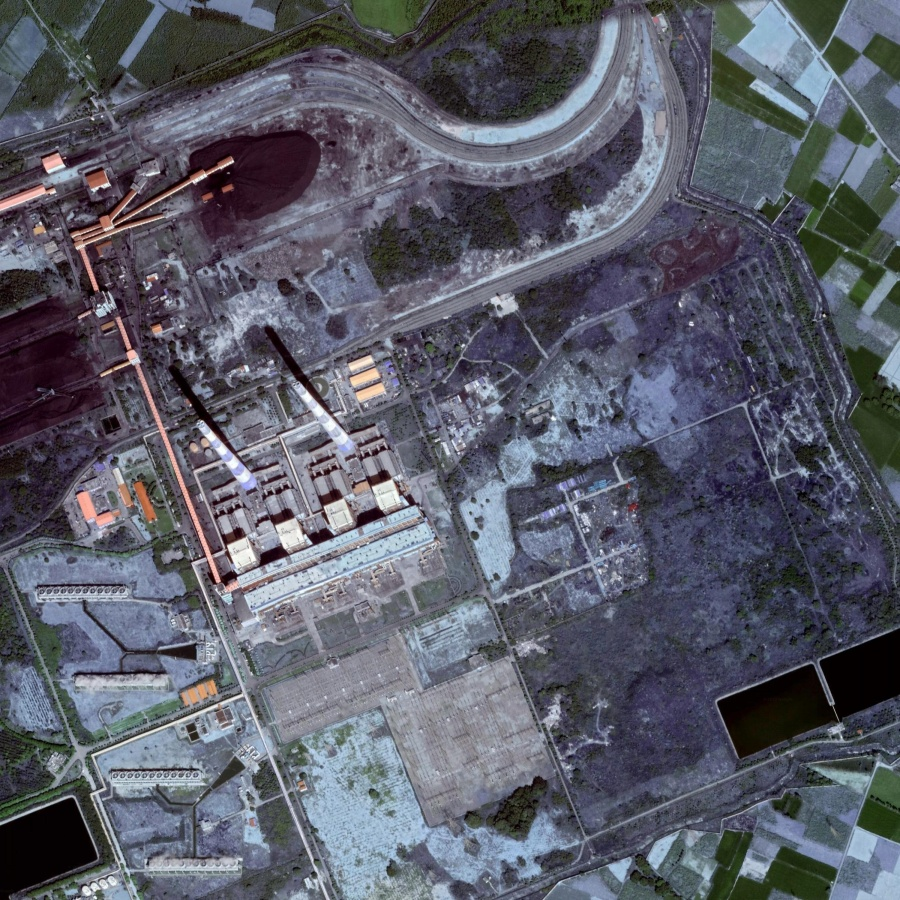PowerPlant: (158, 318, 395, 524)
